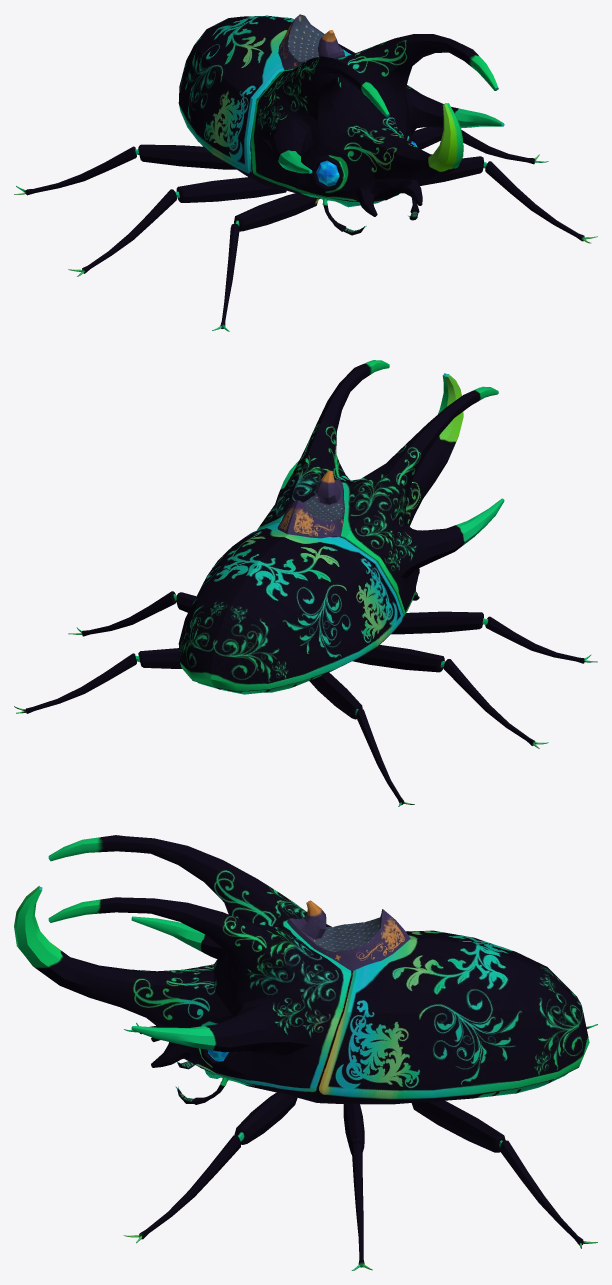
File: beetle-transformed.glb
The picture shows the model from 3 angles, top to bottom: view 1: azimuth 30°, elevation 25°; view 2: azimuth 150°, elevation 25°; view 3: azimuth 270°, elevation 25°; orthographic projection. The views are drawn at different scales.
Parts seen in each view (by area): view 1: Chair_LP_lambert1_0; view 2: Chair_LP_lambert1_0; view 3: Chair_LP_lambert1_0.
Boxes of the visible parts, x1,y1,x2,y2 form: Chair_LP_lambert1_0: [14, 14, 597, 331]; Chair_LP_lambert1_0: [14, 360, 597, 806]; Chair_LP_lambert1_0: [14, 835, 597, 1270].
Size of the model in its own units: 0.486 by 0.2303 by 0.4458.
Materials: 1 (1 with a texture image).
